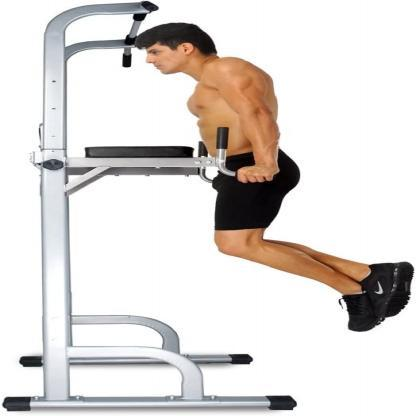chinning dipping: (38, 3, 300, 410)
